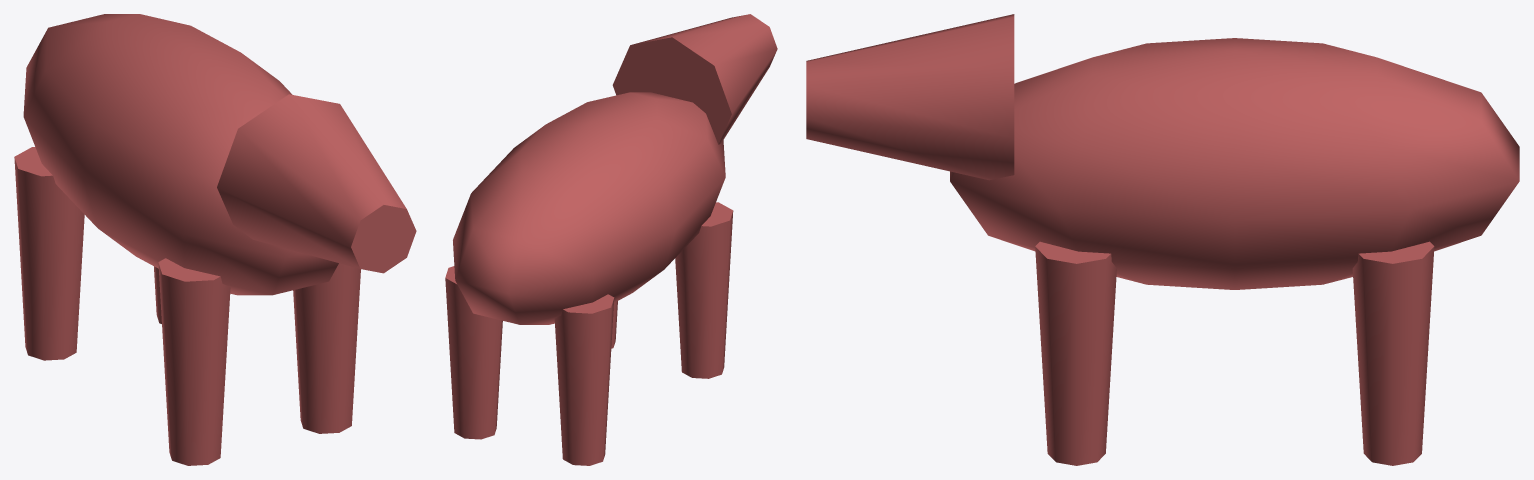
The model's file is mon_hound.glb.
3 views of the same model, side by side, from view 1: azimuth 30°, elevation 25°; view 2: azimuth 150°, elevation 25°; view 3: azimuth 270°, elevation 25° (orthographic). The views are drawn at different scales.
Visible parts, largest first — view 1: hound_body; view 2: hound_body; view 3: hound_body.
Part boxes in pixels (<box>): hound_body: <box>14,14,416,465</box>; hound_body: <box>445,14,777,465</box>; hound_body: <box>806,14,1519,465</box>.
Bounding box in the file's own units: 0.64 × 1.07 × 1.71.
